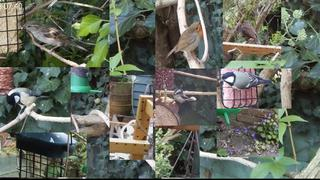great tit: (6, 87, 51, 121), (218, 71, 272, 90)
long tailed tit: (171, 88, 197, 106)
robin: (164, 20, 203, 61)
sparrow: (20, 20, 90, 58)
starling: (241, 20, 261, 45)
